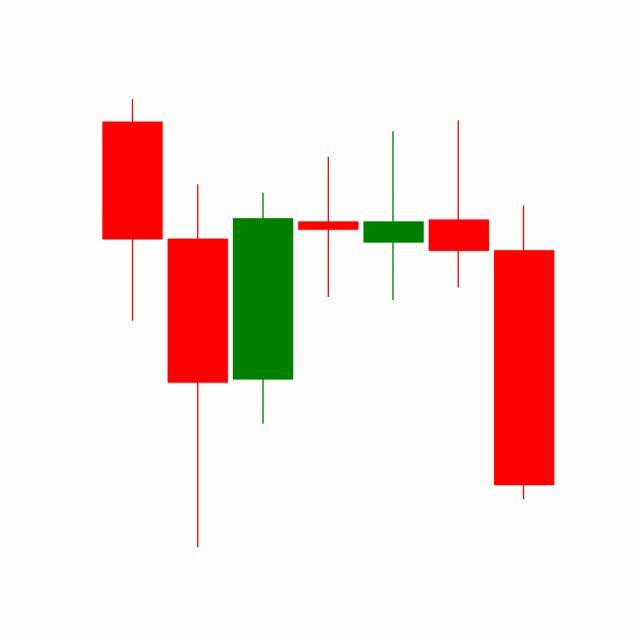Hikkake Pattern: (229, 117, 555, 505)
